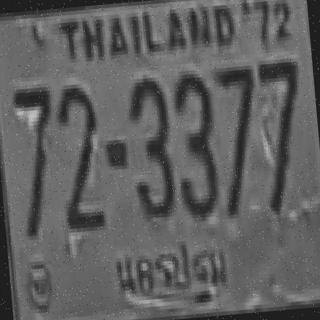N02: (53, 79, 104, 229)
N03: (168, 67, 220, 217), (124, 73, 174, 220)
N07: (256, 56, 307, 210), (10, 83, 60, 237), (213, 62, 263, 215), (213, 62, 261, 197)
P28: (110, 233, 232, 317)
